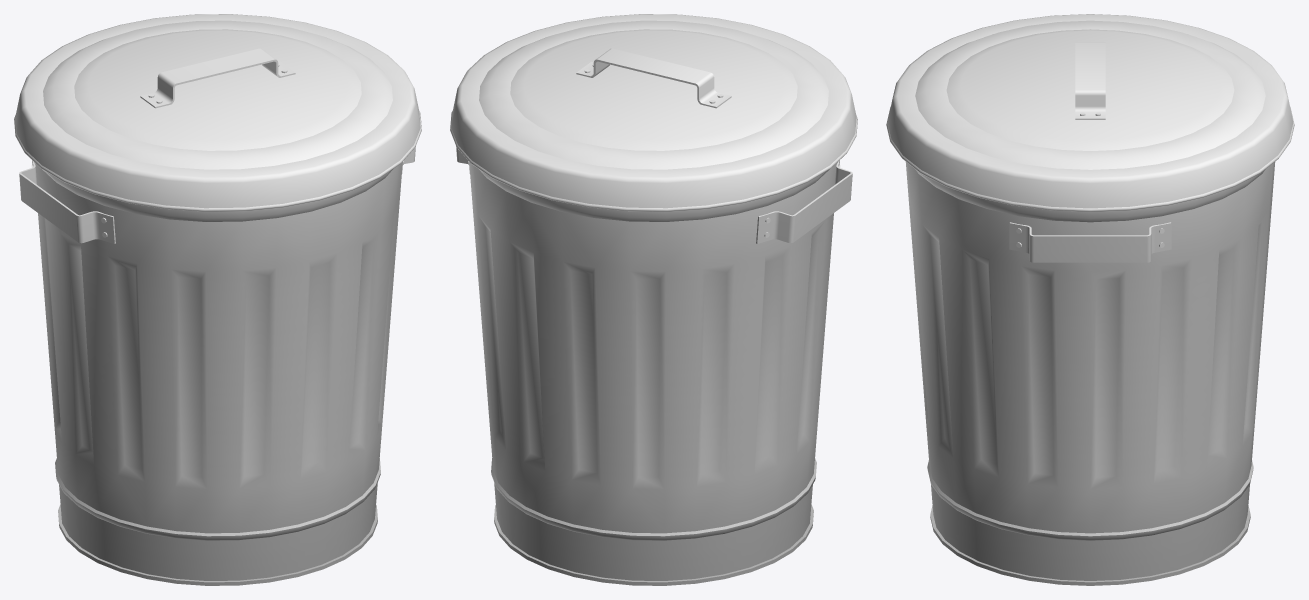
Rendered from metal_garbage_can_01_medium.glb.
The picture shows the model from 3 angles, left to right: view 1: azimuth 30°, elevation 25°; view 2: azimuth 150°, elevation 25°; view 3: azimuth 270°, elevation 25°; orthographic projection.
Visible parts, largest first — view 1: metal_garbage_can_01_medium; view 2: metal_garbage_can_01_medium; view 3: metal_garbage_can_01_medium.
Part boxes in pixels (x1,y1,x2,y2): metal_garbage_can_01_medium: (14, 14, 421, 585); metal_garbage_can_01_medium: (450, 14, 857, 585); metal_garbage_can_01_medium: (886, 14, 1294, 585).
Size of the model in its own units: 0.4034 by 0.4928 by 0.4034.
1 material, 1 textured.
